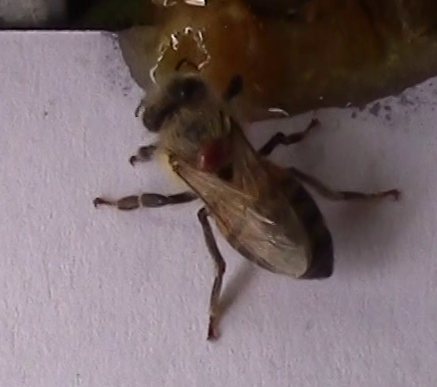Varroa destructor: (190, 134, 232, 174)
